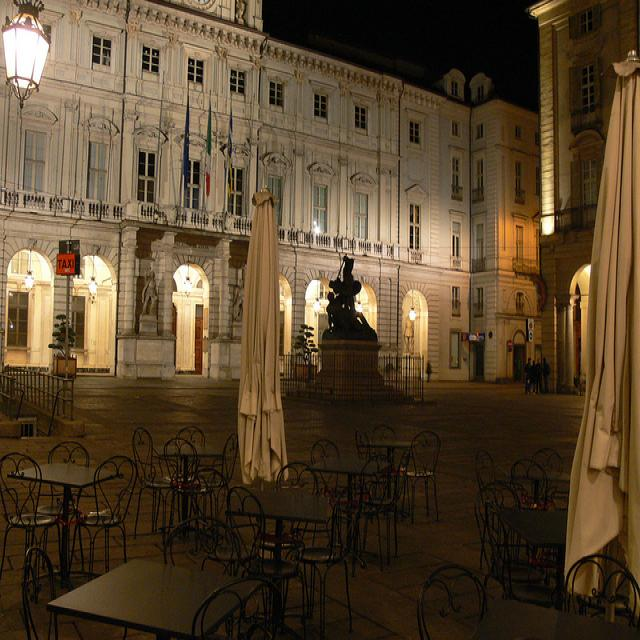Table: (45, 552, 282, 640), (230, 467, 330, 575), (26, 447, 118, 557), (487, 499, 609, 567), (316, 447, 390, 519), (169, 425, 228, 491), (366, 412, 421, 480)
chair: (406, 537, 482, 640), (191, 560, 279, 640), (2, 438, 52, 565), (572, 535, 632, 638), (303, 407, 348, 543), (494, 447, 549, 556), (51, 410, 93, 530), (94, 431, 137, 544), (406, 422, 461, 509), (134, 411, 167, 556), (174, 396, 212, 519), (269, 447, 319, 536), (536, 425, 569, 531), (469, 427, 497, 526)
